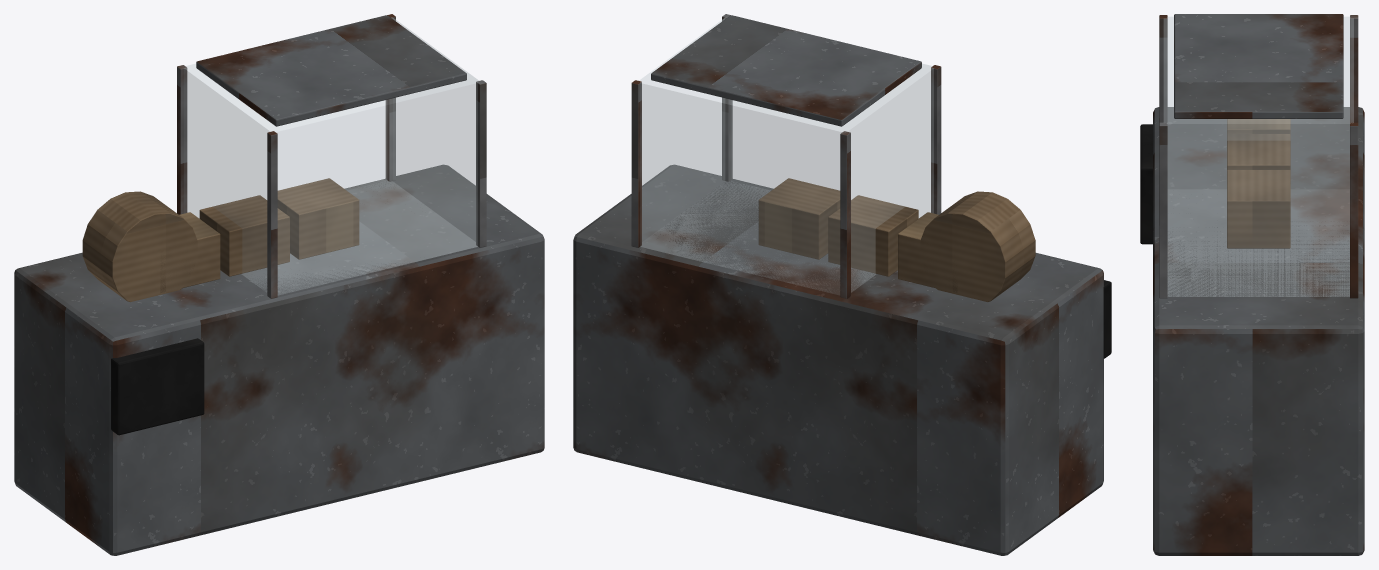
File: HM06_packaging_machine.glb
The picture shows the model from 3 angles, left to right: view 1: azimuth 30°, elevation 25°; view 2: azimuth 150°, elevation 25°; view 3: azimuth 270°, elevation 25°; orthographic projection. The views are drawn at different scales.
Parts seen in each view (by area): view 1: HM06_packaging_machine; view 2: HM06_packaging_machine; view 3: HM06_packaging_machine.
Part boxes in pixels (x1,y1,x2,y2): HM06_packaging_machine: (14, 14, 544, 555); HM06_packaging_machine: (573, 14, 1111, 555); HM06_packaging_machine: (1140, 14, 1364, 555).
Size of the model in its own units: 2.5 by 2.14 by 1.06.
Materials: 6 (5 with a texture image).
